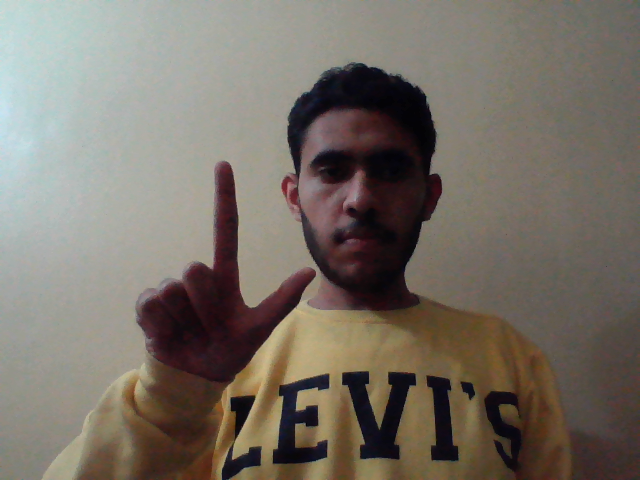L: (131, 158, 318, 384)
